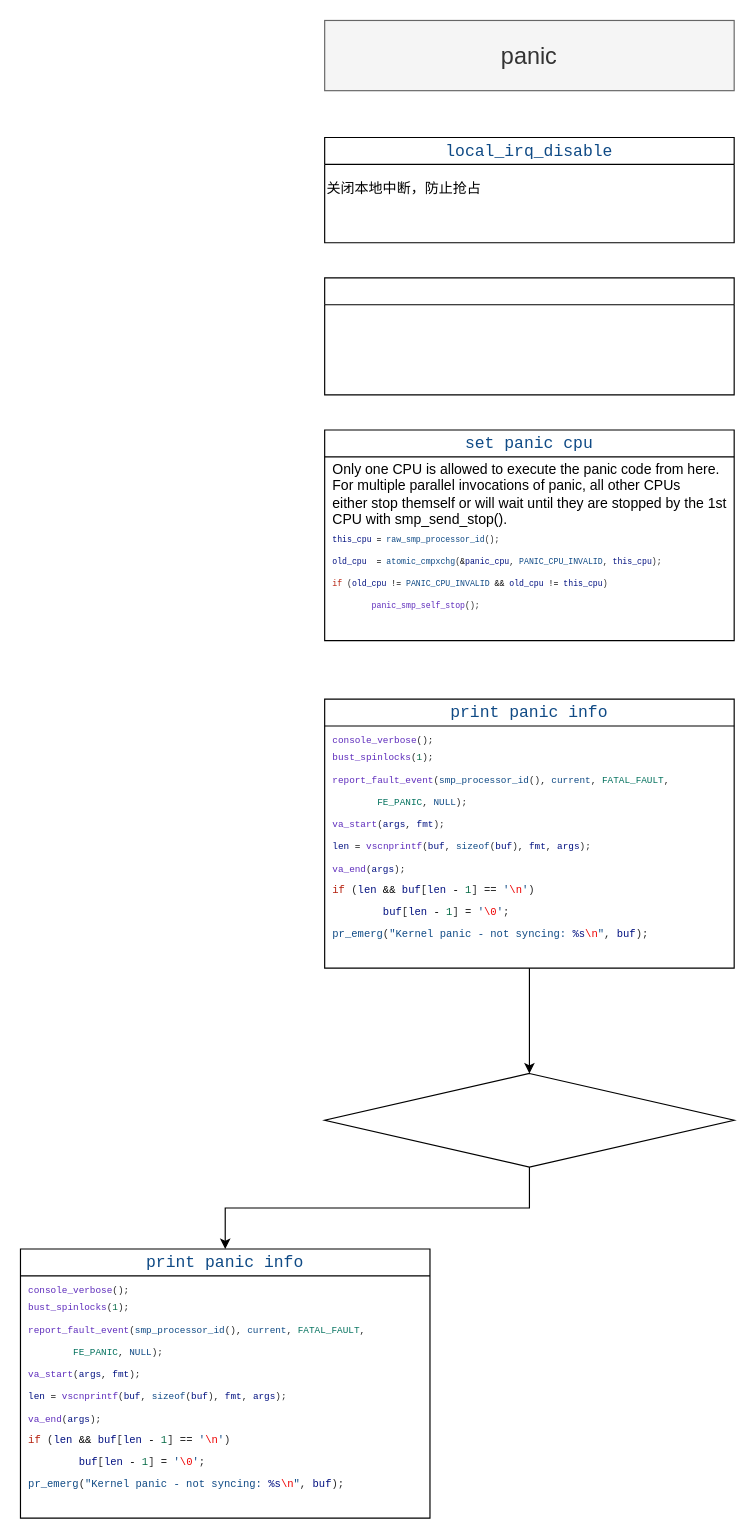
Some shapes in this 755 by 1539 pixel diagram are drawn without their labels. The centre of each missing label's shape, as x and y in pixels:
"crash_kexec_post_notifiers" goes at pixel 529 1119.
"preempt_disable_notrace" goes at pixel 529 336.
